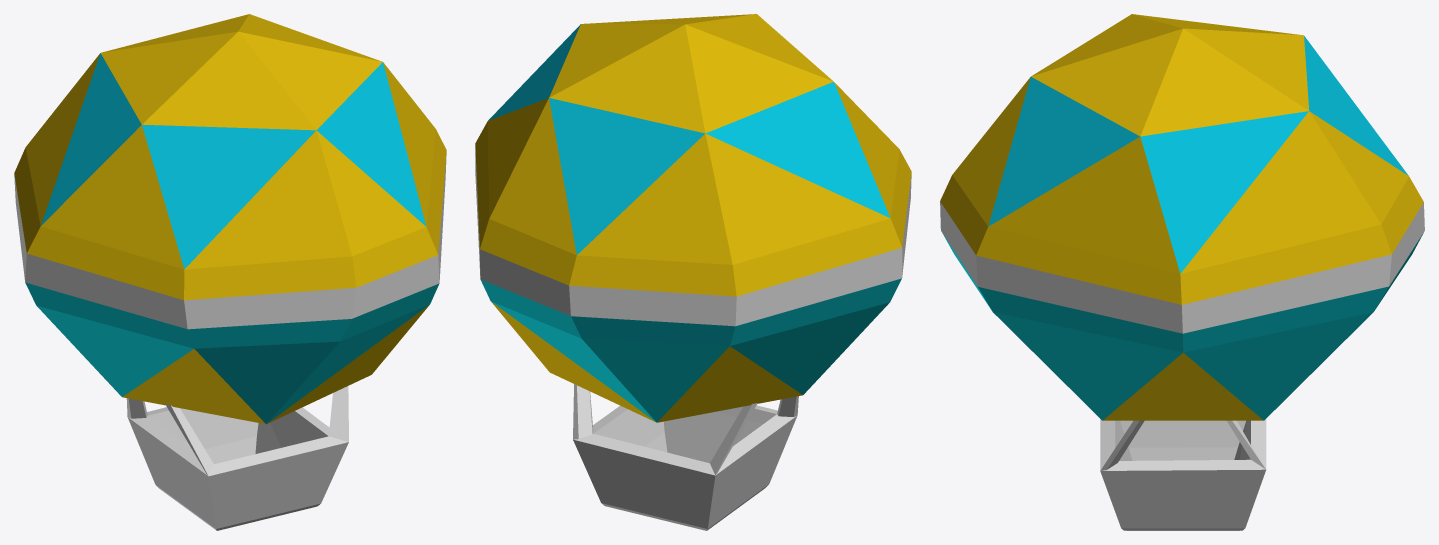
The model's file is Balloon.fbx.
3 views of the same model, side by side, from view 1: azimuth 30°, elevation 25°; view 2: azimuth 150°, elevation 25°; view 3: azimuth 270°, elevation 25° (orthographic). The views are drawn at different scales.
Parts seen in each view (by area): view 1: Top, Cube, Cube.001; view 2: Top, Cube, Cube.001; view 3: Top, Cube, Cube.001.
Part boxes in pixels (left/top/right/bottom): Top: left=14, top=14, right=446, bottom=424; Cube: left=127, top=407, right=348, bottom=530; Cube.001: left=126, top=386, right=348, bottom=475; Top: left=475, top=14, right=911, bottom=422; Cube: left=573, top=405, right=797, bottom=530; Cube.001: left=573, top=384, right=798, bottom=474; Top: left=940, top=14, right=1424, bottom=420; Cube: left=1100, top=419, right=1266, bottom=530; Cube.001: left=1100, top=420, right=1265, bottom=470.
Size of the model in its own units: 4778 by 5086 by 4653.
